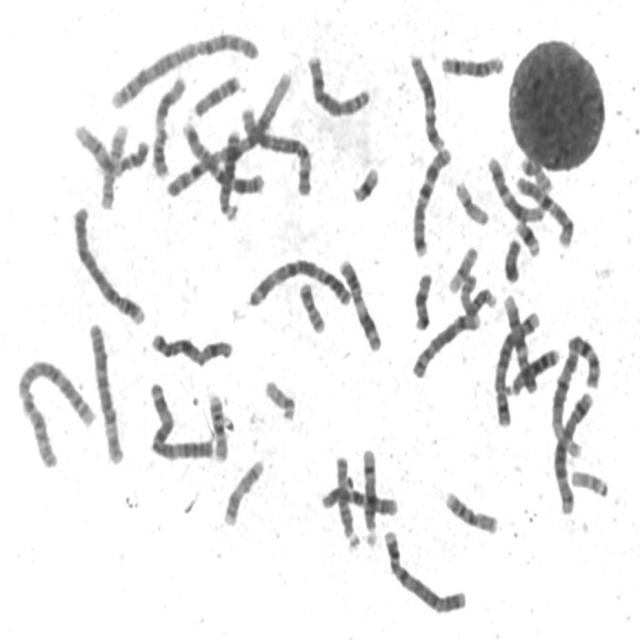A1: (162, 65, 295, 201), (546, 329, 602, 463)
A2: (105, 26, 260, 110), (12, 352, 96, 469)
A3: (243, 253, 354, 310), (144, 377, 216, 462)
B4: (67, 198, 147, 328), (379, 524, 468, 616)
B5: (488, 303, 542, 429), (549, 386, 595, 516)
C10: (512, 171, 576, 249), (315, 481, 400, 519)
C11: (334, 252, 384, 353), (147, 68, 188, 178)
C12: (482, 150, 546, 223), (405, 47, 447, 152)
C6: (236, 100, 314, 197), (84, 316, 126, 466)
C7: (178, 114, 266, 198), (408, 140, 454, 259)
C8: (407, 307, 482, 380), (302, 48, 373, 119)
C9: (69, 116, 150, 177), (499, 288, 540, 396)
D13: (502, 342, 561, 397), (214, 121, 243, 222)
D14: (357, 442, 380, 548), (436, 48, 507, 80)
D15: (330, 449, 362, 552), (456, 273, 495, 317)
E16: (440, 484, 500, 536), (204, 388, 230, 463)
E17: (219, 454, 266, 528), (97, 116, 131, 212)
E18: (190, 68, 242, 118), (409, 266, 434, 332)
F19: (450, 175, 491, 227), (444, 240, 480, 295)
F20: (294, 277, 328, 335), (516, 151, 554, 193)
G21: (348, 160, 382, 205), (511, 214, 543, 258)
G22: (260, 374, 298, 423), (567, 464, 610, 499)
X: (147, 326, 234, 368)
Y: (499, 232, 524, 284)
